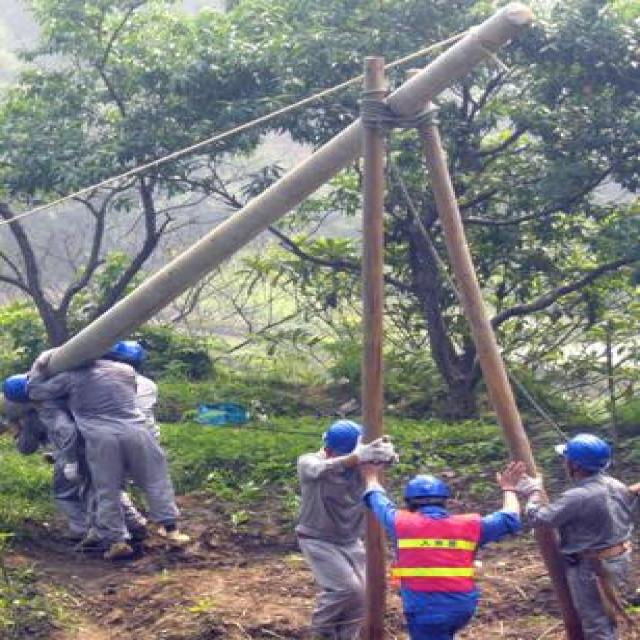Reflective-Jacket: (282, 451, 384, 547), (386, 506, 488, 598)
Safety-Helmet: (549, 427, 617, 477), (310, 414, 374, 462), (395, 470, 457, 504)
